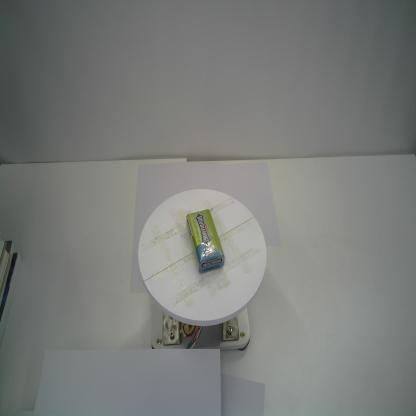Gum: (186, 209, 225, 273)
